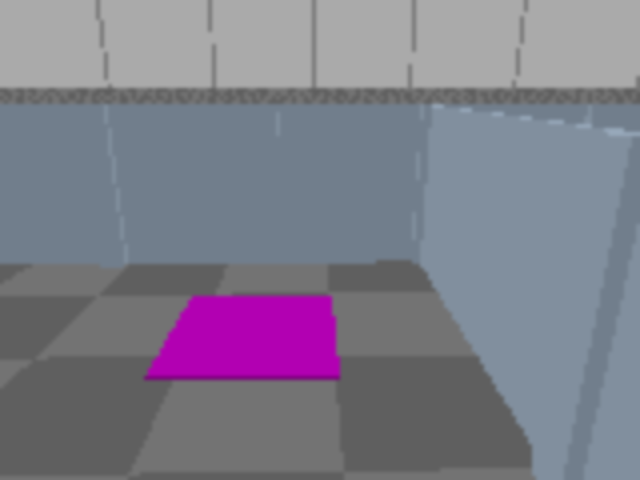goal_zone: (145, 294, 340, 380)
